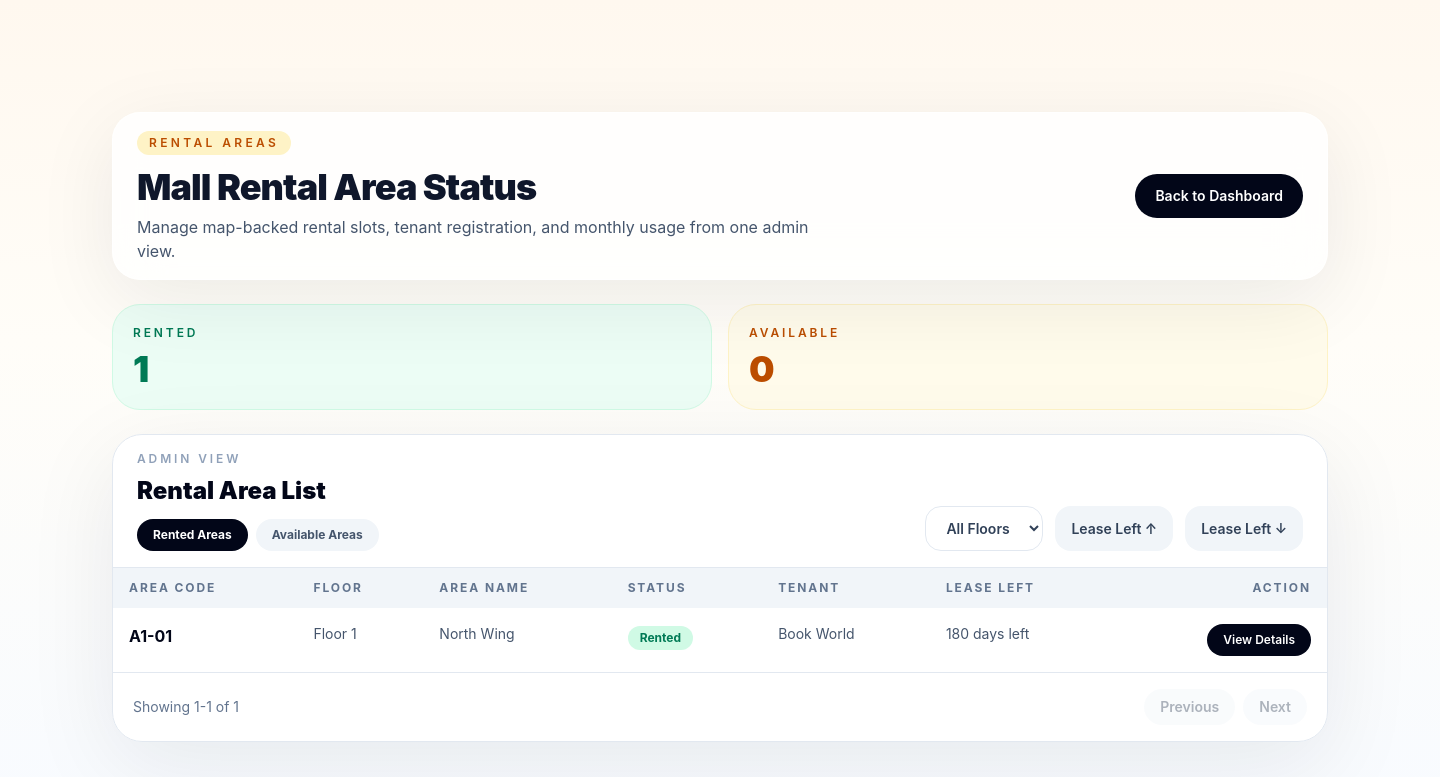
Test: RentalAreasAdmin › loads rental area detail when opening the view modal
Expected: the heading "Rental Area List" is shown, left=137, top=476, right=326, bottom=505
Click the button "View Details". click: (1259, 640)
box: left=1207, top=624, right=1311, bottom=656
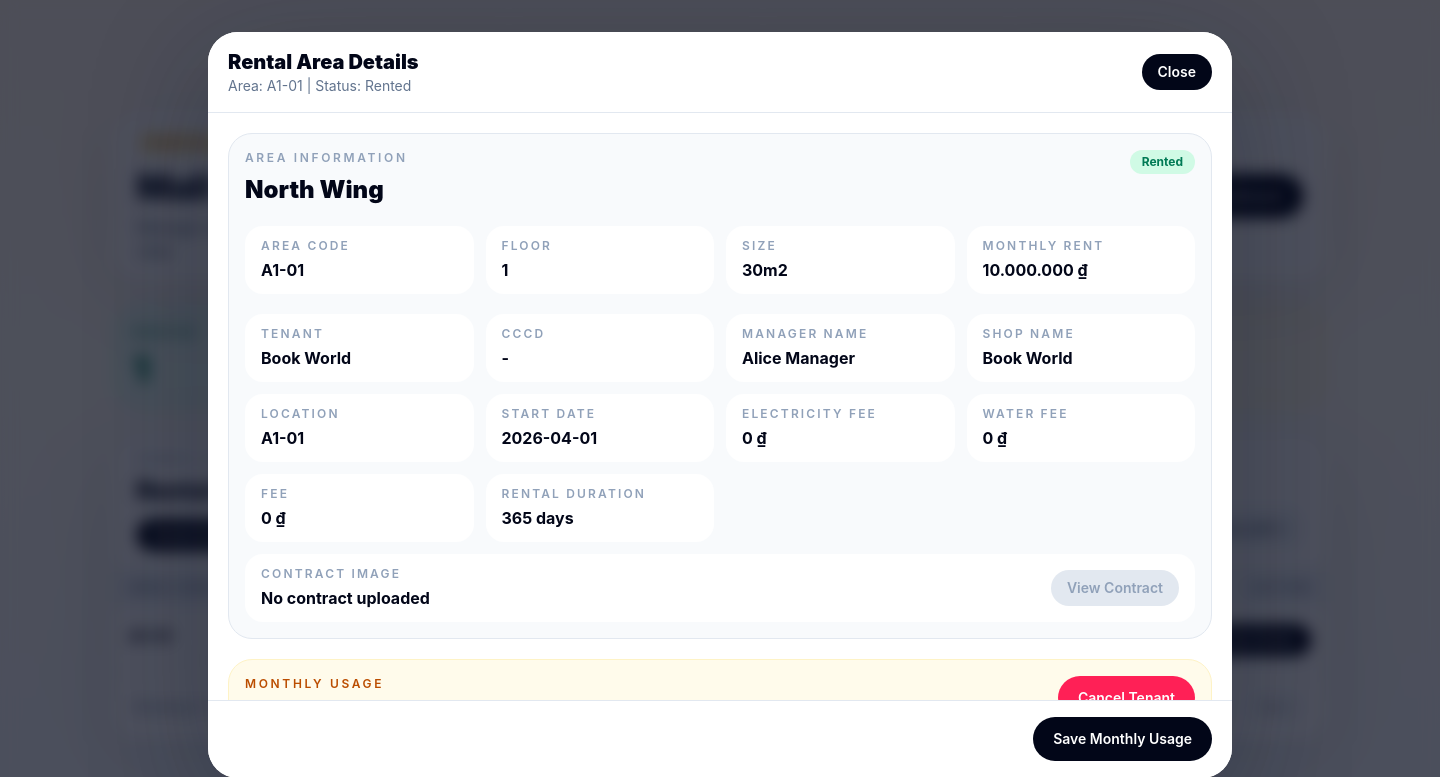
Now the heading "Rental Area Details" is shown, box left=228, top=48, right=419, bottom=76
Now the text "Alice Manager" is shown, box left=742, top=348, right=855, bottom=368
